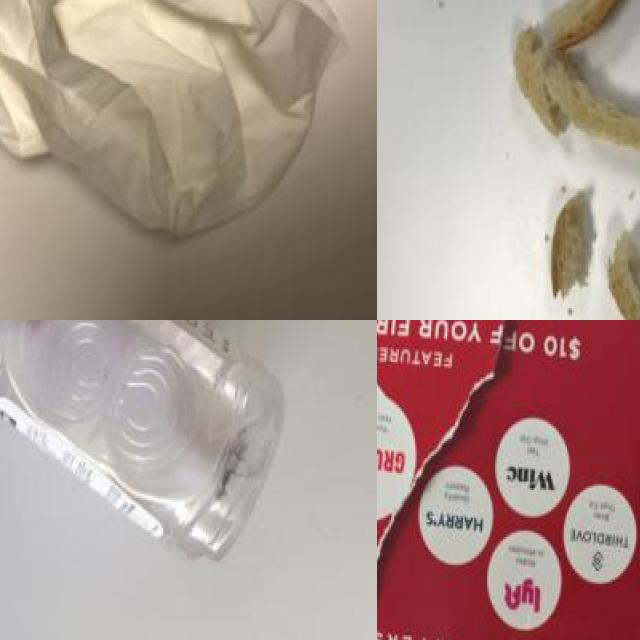compost: (489, 0, 640, 320)
paper: (377, 320, 640, 640)
plastic: (0, 320, 299, 571)
trash: (0, 0, 355, 234)
